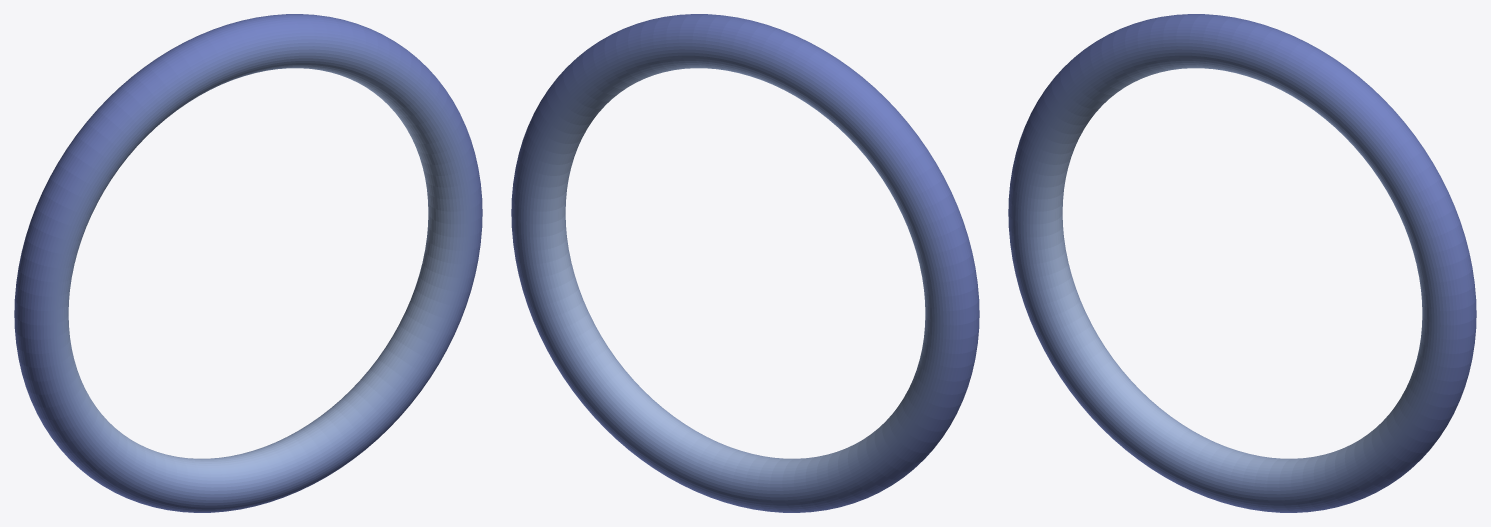
3 views of the same model, side by side, from view 1: azimuth 30°, elevation 25°; view 2: azimuth 150°, elevation 25°; view 3: azimuth 330°, elevation 25° (orthographic).
Parts seen in each view (by area): view 1: world; view 2: world; view 3: world.
Boxes of the visible parts, x1,y1,x2,y2 form: world: (14,14,482,512); world: (511,14,979,512); world: (1008,14,1476,512).
Bounding box in the file's own units: 27.47 × 27.47 × 2.79.
